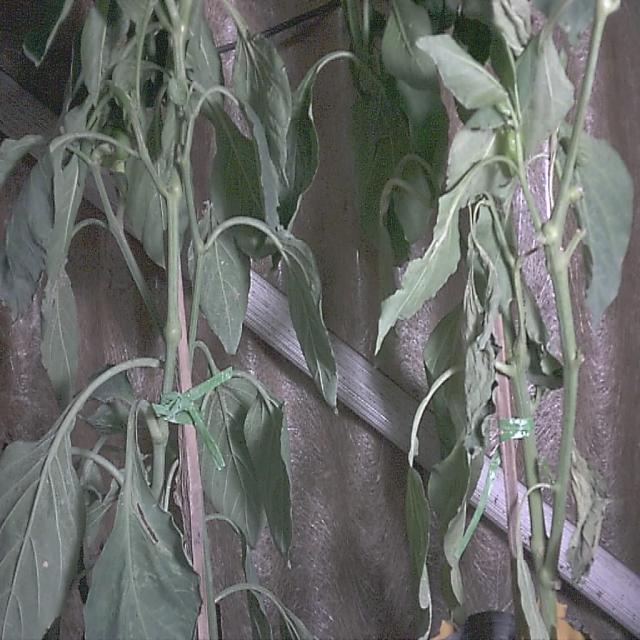Leaf: (85, 429, 200, 639), (0, 425, 84, 638), (279, 230, 337, 408), (0, 155, 53, 318), (244, 394, 292, 555), (417, 35, 508, 109), (567, 445, 608, 581), (42, 270, 78, 406)
